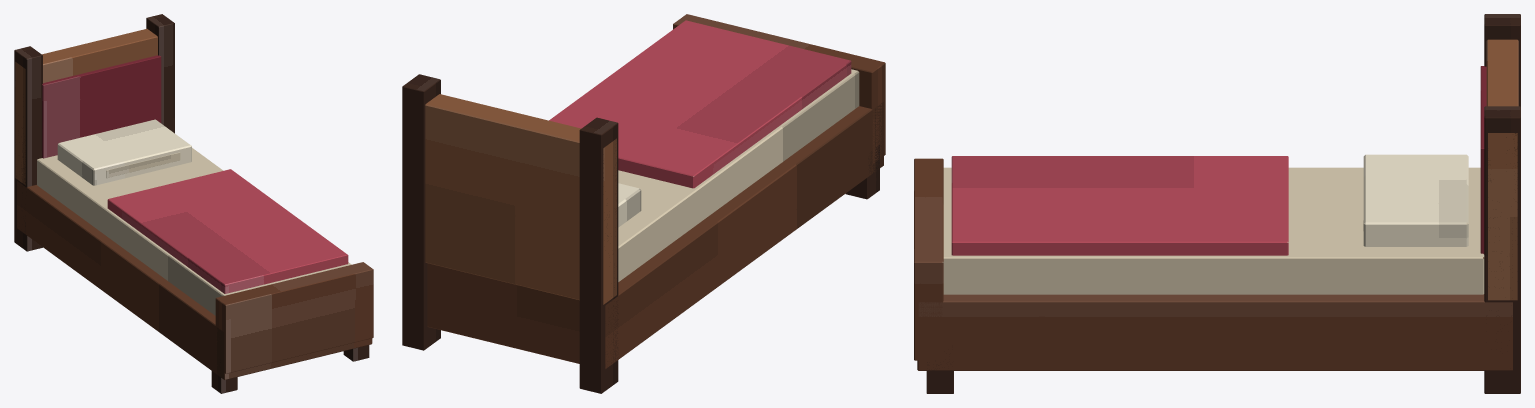
File: single_bed_burgundy.glb
3 views of the same model, side by side, from view 1: azimuth 30°, elevation 25°; view 2: azimuth 150°, elevation 25°; view 3: azimuth 270°, elevation 25° (orthographic). The views are drawn at different scales.
Parts seen in each view (by area): view 1: Blanket, BedFrame, Footboard, Mattress, HeadboardInset, Pillow_1, HeadboardPanel, HeadPostL, HeadPostR, PillowBand_1, FootL, FootR; view 2: BedFrame, HeadboardPanel, Blanket, Mattress, HeadPostL, HeadPostR, Footboard, Pillow_1, FootL; view 3: BedFrame, Blanket, Mattress, Pillow_1, HeadboardPanel, Footboard, HeadPostR, HeadPostL, HeadboardInset, FootR.
Boxes of the visible parts, box(x1,y1,x2,y2) form: Blanket: box(107, 169, 348, 293); BedFrame: box(17, 181, 372, 379); Footboard: box(215, 262, 373, 373); Mattress: box(37, 148, 351, 315); HeadboardInset: box(42, 55, 161, 158); Pillow_1: box(57, 119, 191, 185); HeadboardPanel: box(15, 29, 157, 185); HeadPostL: box(14, 46, 42, 251); HeadPostR: box(146, 14, 174, 133); PillowBand_1: box(106, 152, 180, 178); FootL: box(211, 362, 237, 393); FootR: box(343, 345, 369, 361); BedFrame: box(427, 102, 883, 368); HeadboardPanel: box(425, 94, 616, 304); Blanket: box(549, 20, 851, 188); Mattress: box(618, 69, 859, 281); HeadPostL: box(579, 117, 618, 393); HeadPostR: box(402, 74, 440, 350); Footboard: box(673, 14, 885, 163); Pillow_1: box(618, 183, 641, 227); FootL: box(845, 145, 879, 199); BedFrame: box(917, 257, 1512, 370); Blanket: box(951, 156, 1288, 255); Mattress: box(942, 167, 1484, 294); Pillow_1: box(1363, 154, 1468, 246); HeadboardPanel: box(1486, 39, 1518, 300); Footboard: box(914, 158, 943, 360); HeadPostR: box(1484, 106, 1520, 393); HeadPostL: box(1484, 14, 1520, 106); HeadboardInset: box(1480, 66, 1486, 254); FootR: box(926, 362, 953, 393).
Bounding box in the file's own units: 1.08 × 1.34 × 2.66.
1 material, 1 textured.
